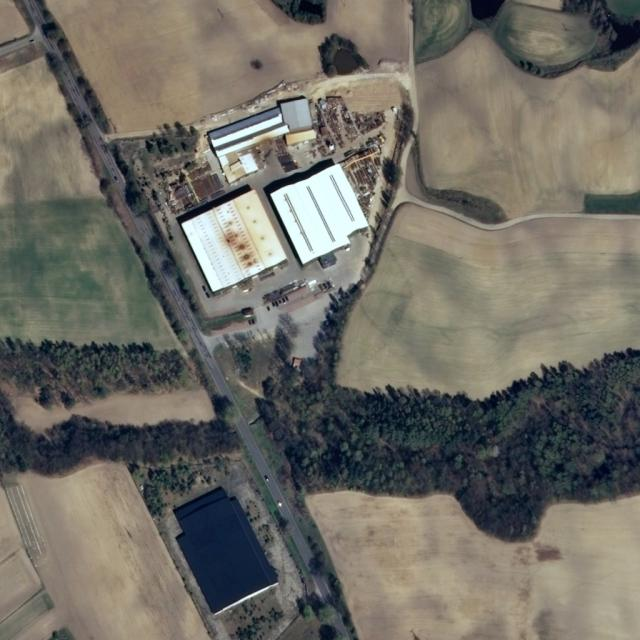agricultural_land: (306, 491, 640, 640), (47, 0, 409, 133), (18, 437, 211, 640), (0, 475, 68, 639)
building: (167, 76, 419, 335), (120, 412, 350, 640), (160, 145, 389, 347), (163, 481, 281, 615), (214, 109, 340, 196), (337, 129, 397, 182)
dryland: (9, 435, 211, 640), (441, 1, 459, 19)
greenland: (385, 135, 511, 252), (0, 338, 193, 410), (312, 27, 369, 82), (1, 392, 34, 474)
unmetalled_road: (128, 234, 145, 258)
